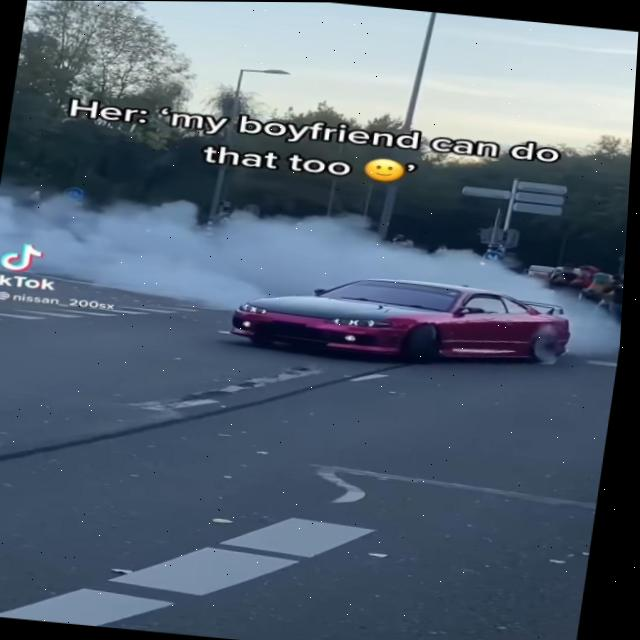vehicle: (222, 261, 585, 382)
